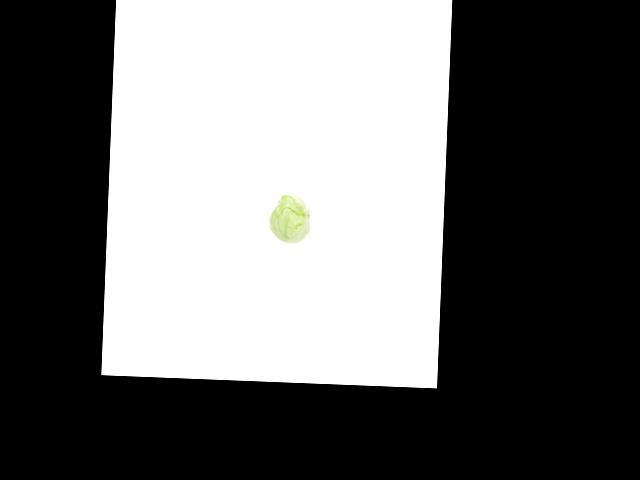lettuce: (264, 188, 311, 248)
